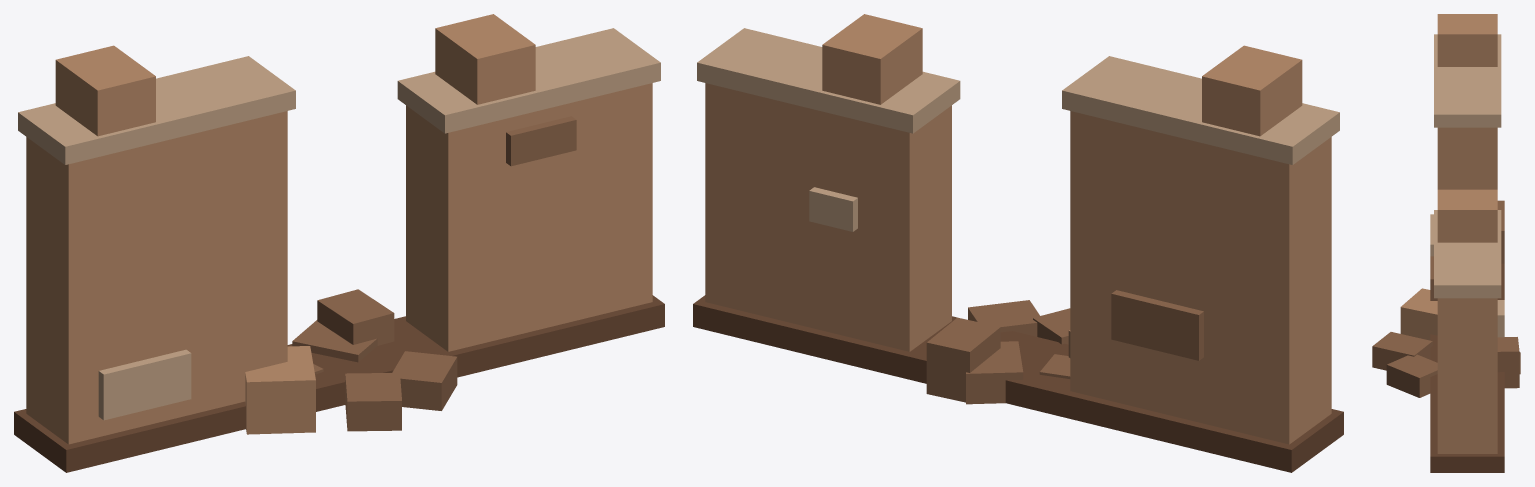
File: dd_wall_broken.glb
3 views of the same model, side by side, from view 1: azimuth 30°, elevation 25°; view 2: azimuth 150°, elevation 25°; view 3: azimuth 270°, elevation 25° (orthographic). The views are drawn at different scales.
Visible parts, largest first — view 1: DUBG_dd_wall_broken; view 2: DUBG_dd_wall_broken; view 3: DUBG_dd_wall_broken.
Boxes of the visible parts, <box> form: DUBG_dd_wall_broken: <box>14,14,664,472</box>; DUBG_dd_wall_broken: <box>693,14,1343,472</box>; DUBG_dd_wall_broken: <box>1372,14,1520,472</box>.
Bounding box in the file's own units: 9.55 × 5.64 × 2.87.
